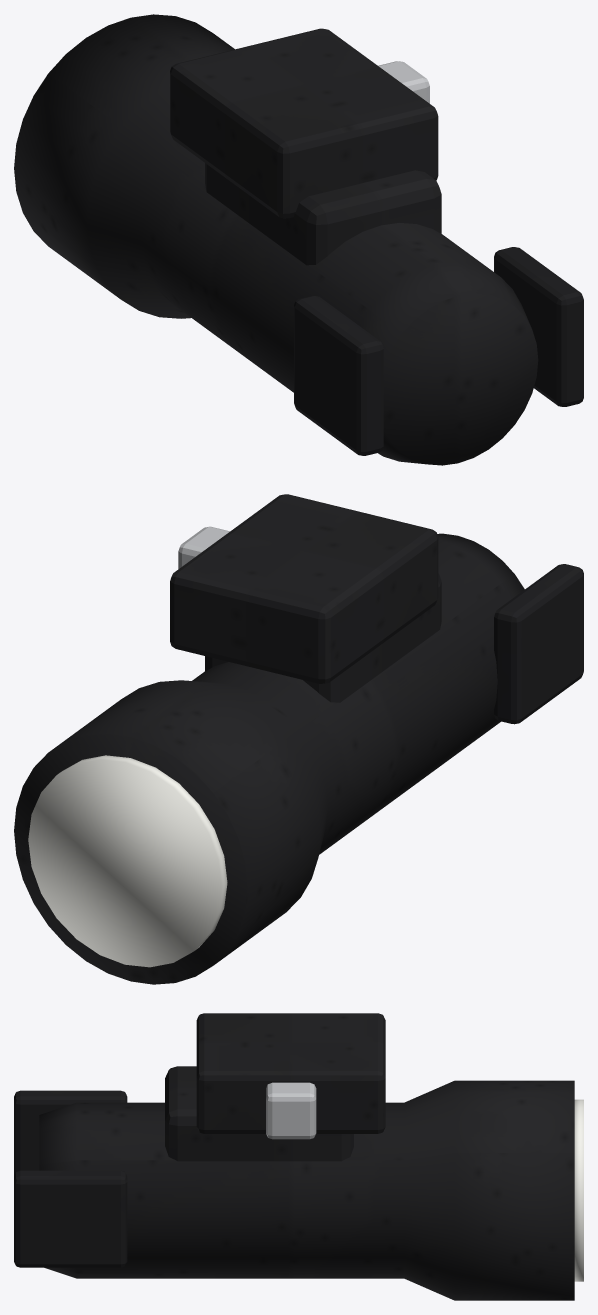
File: weapon_light.glb
3 renders of one model, top to bottom at view 1: azimuth 30°, elevation 25°; view 2: azimuth 150°, elevation 25°; view 3: azimuth 270°, elevation 25°, orthographic. The views are drawn at different scales.
Parts seen in each view (by area): view 1: body, wl_clamp, paddle-1, neck, paddle1, wl_screw; view 2: body, wl_clamp, lens, paddle-1, neck, wl_screw; view 3: body, wl_clamp, paddle1, neck, paddle-1, wl_screw, lens.
Boxes of the visible parts, x1,y1,x2,y2 form: body: (14, 14, 538, 465); wl_clamp: (170, 28, 438, 218); paddle-1: (294, 296, 383, 455); neck: (205, 163, 441, 265); paddle1: (494, 247, 583, 406); wl_screw: (378, 61, 429, 103); body: (14, 533, 524, 984); wl_clamp: (170, 494, 438, 683); lens: (28, 755, 227, 967); paddle-1: (494, 564, 583, 724); neck: (205, 573, 441, 702); wl_screw: (178, 526, 229, 568); body: (39, 1080, 574, 1300); wl_clamp: (196, 1013, 385, 1133); paddle1: (14, 1170, 127, 1267); neck: (165, 1066, 353, 1161); paddle-1: (14, 1090, 127, 1175); wl_screw: (266, 1082, 316, 1139); lens: (574, 1099, 583, 1281).
Bounding box in the file's own units: 0.035 × 0.0435 × 0.0905.
Materials: 4 (2 with a texture image).
